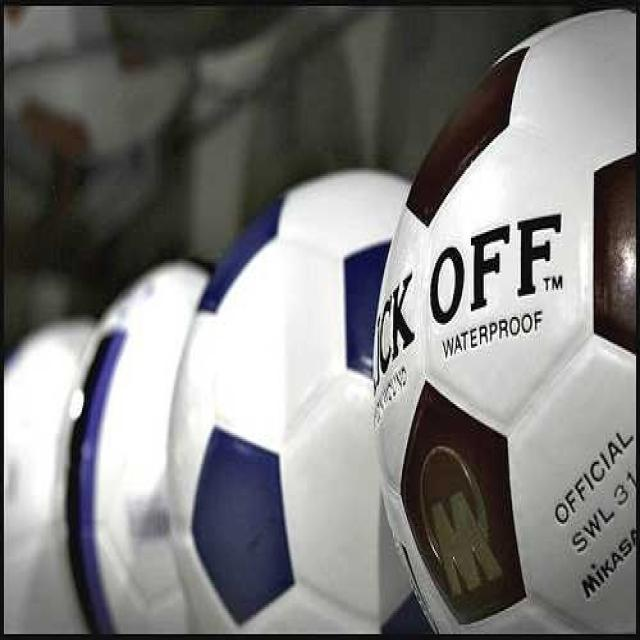ball: (372, 7, 639, 640), (165, 166, 424, 635)
